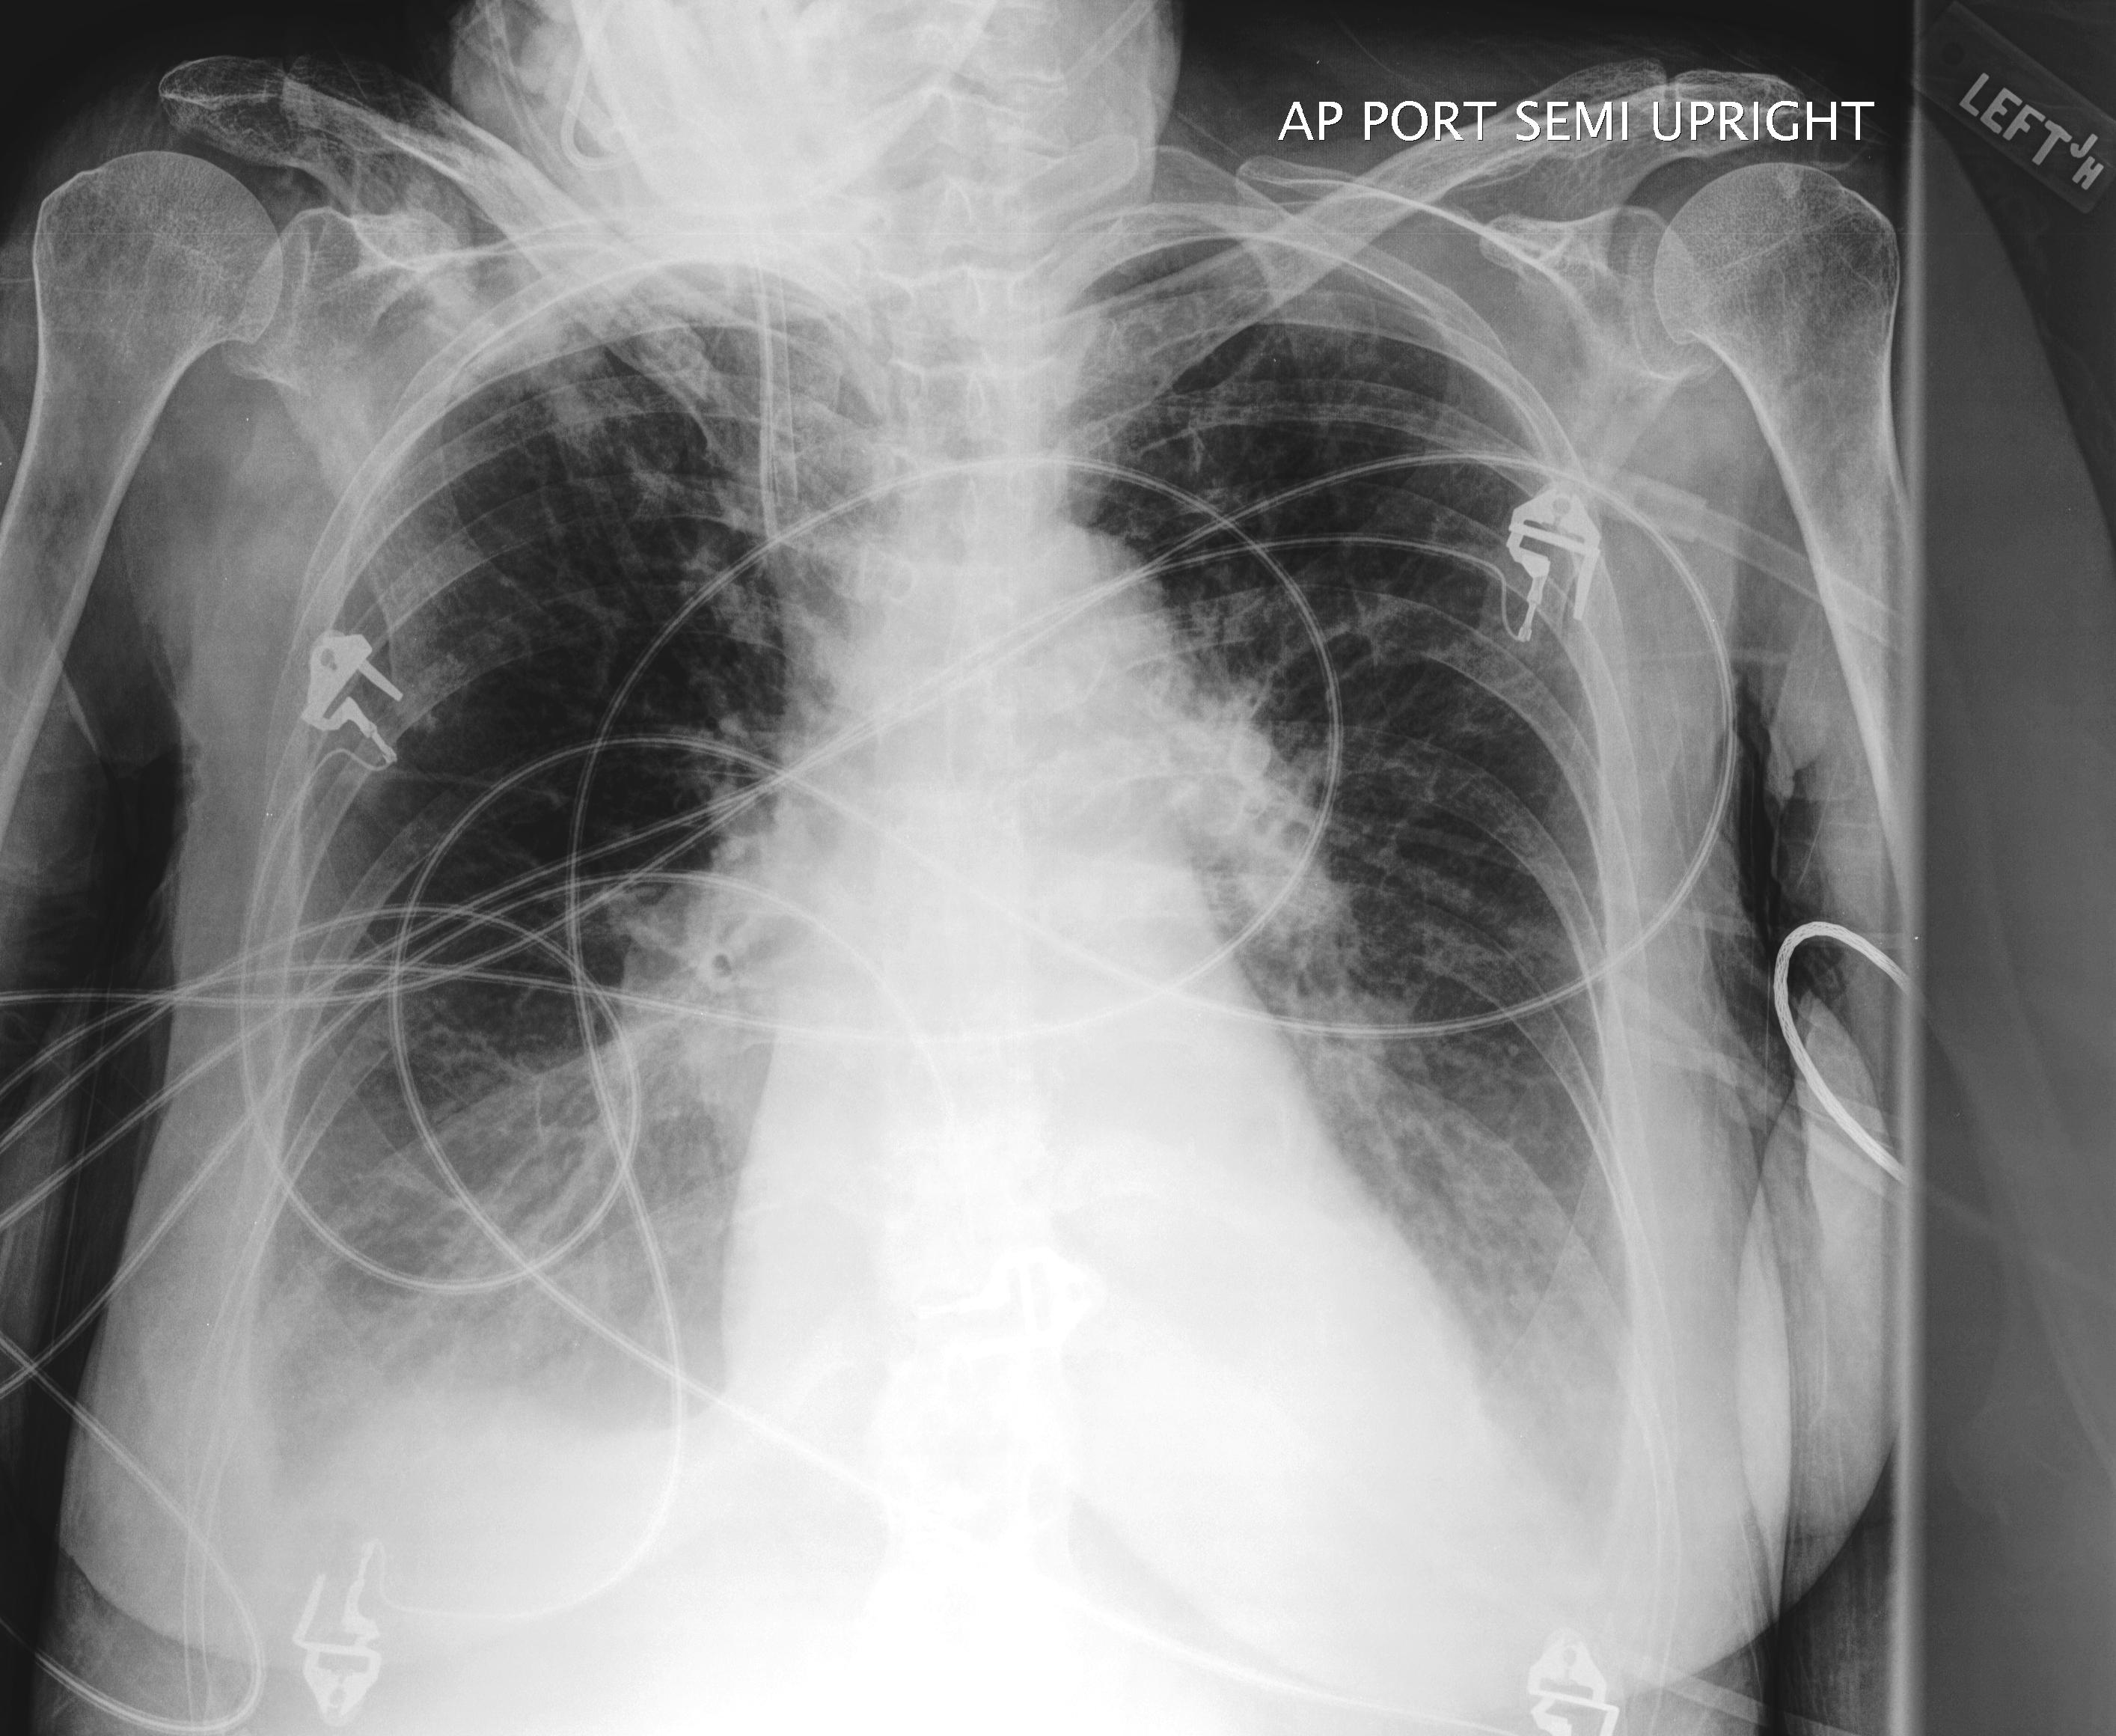Pleural Effusion: (153, 1218, 717, 1696), (1355, 1237, 1682, 1720)
